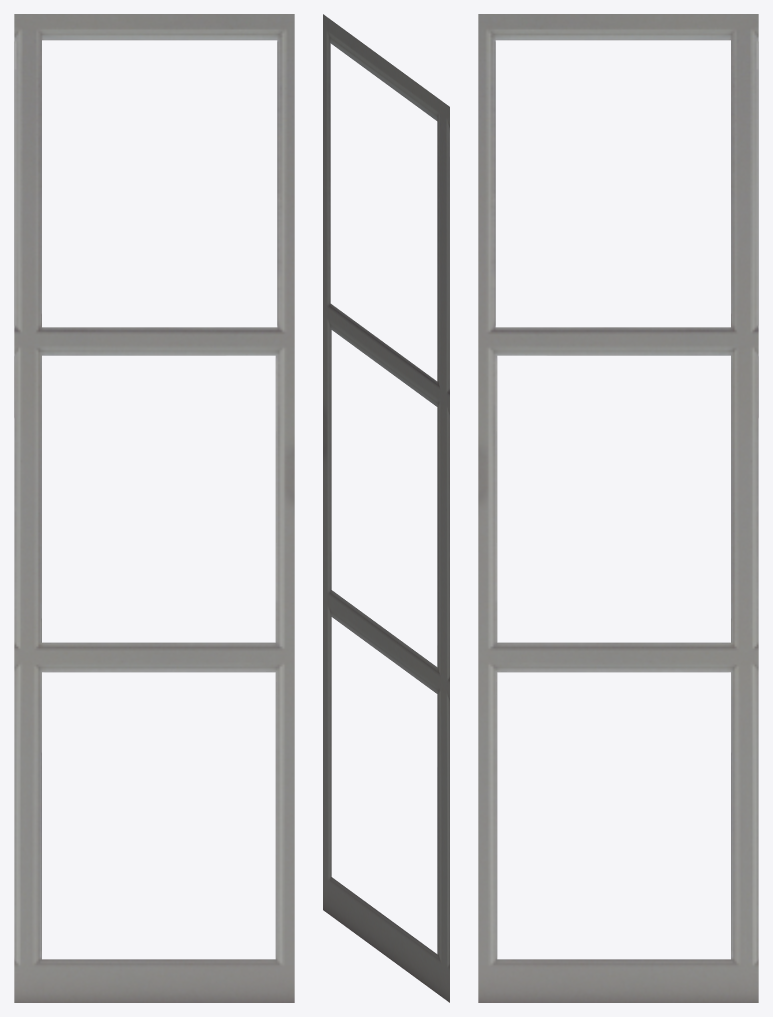
The model's file is Janelinha.glb.
3 views of the same model, side by side, from view 1: azimuth 90°, elevation 25°; view 2: azimuth 210°, elevation 25°; view 3: azimuth 270°, elevation 25° (orthographic). The views are drawn at different scales.
Parts seen in each view (by area): view 1: Cube.021; view 2: Cube.021; view 3: Cube.021.
Part boxes in pixels (box(x1,y1,x2,y2)): Cube.021: box(14, 14, 294, 1002); Cube.021: box(323, 14, 449, 1002); Cube.021: box(478, 14, 758, 1002).
Bounding box in the file's own units: 0 × 4.01 × 1.03.
Materials: 1 (1 with a texture image).
